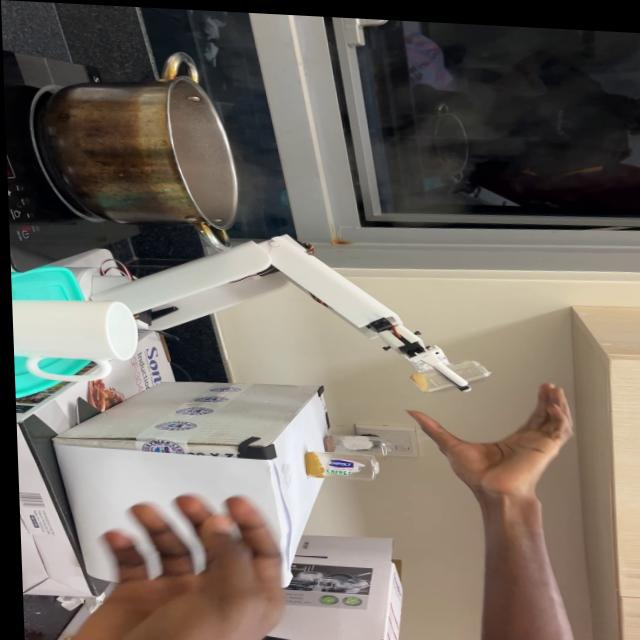cooking_pot: (54, 31, 239, 252)
curry_powder: (295, 448, 323, 476)
garlic_powder: (404, 369, 426, 389)
maggie_open: (319, 433, 334, 450)
